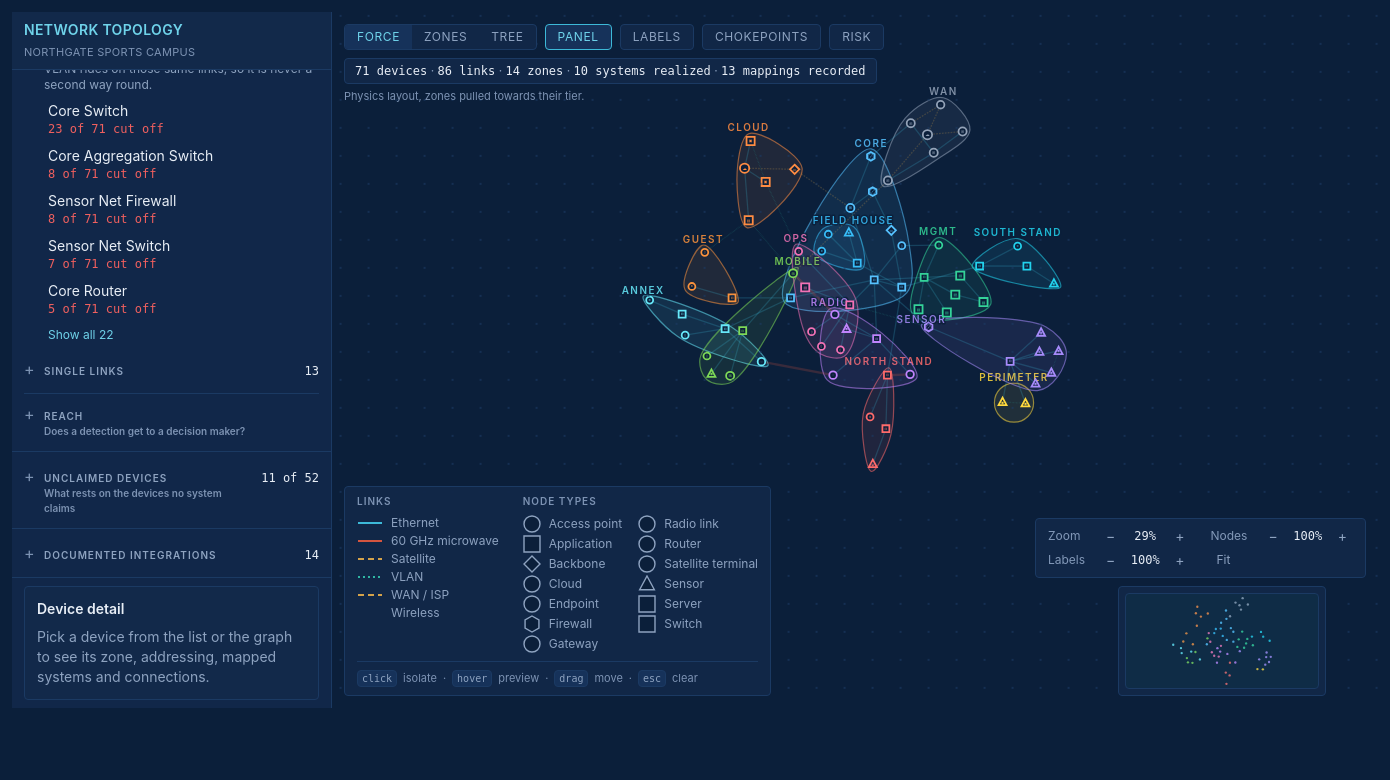
Test: Documented integrations › checks every integration the documents record against the drawing
The image size is (1390, 780).
(page scrolled)
Click the button "+ Documented integrations 14" at (172, 552), box [24,536,319,568]
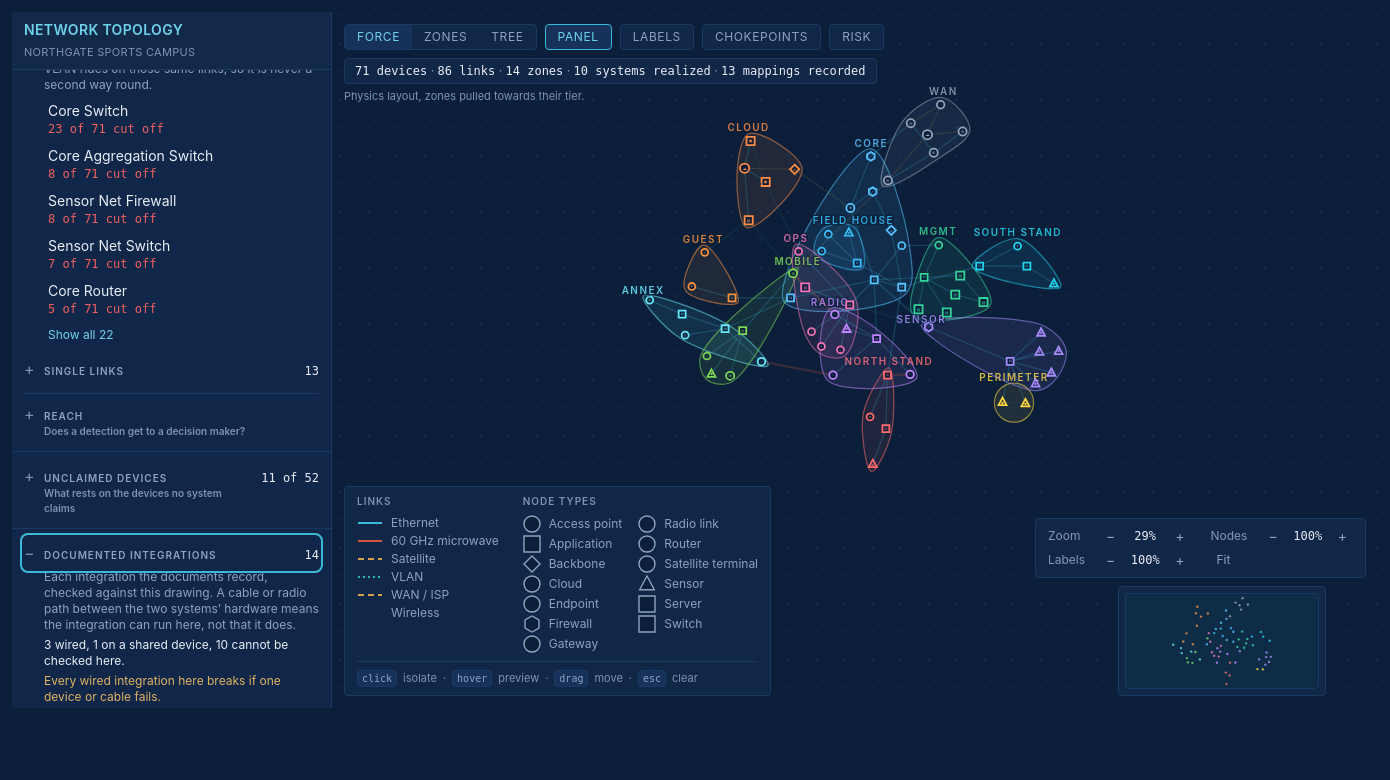
expect the text "3 wired, 1 on a shared device, 10 cannot be checked here." is shown: met, box [44,636,319,668]
